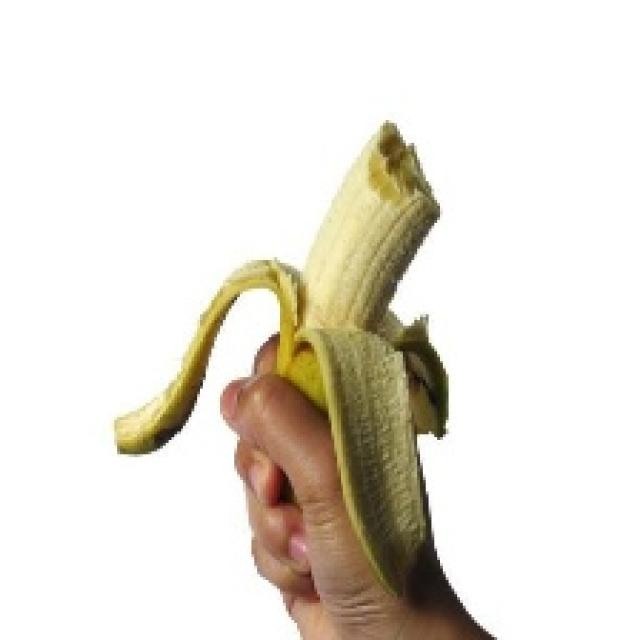Banana: (111, 117, 448, 597)
